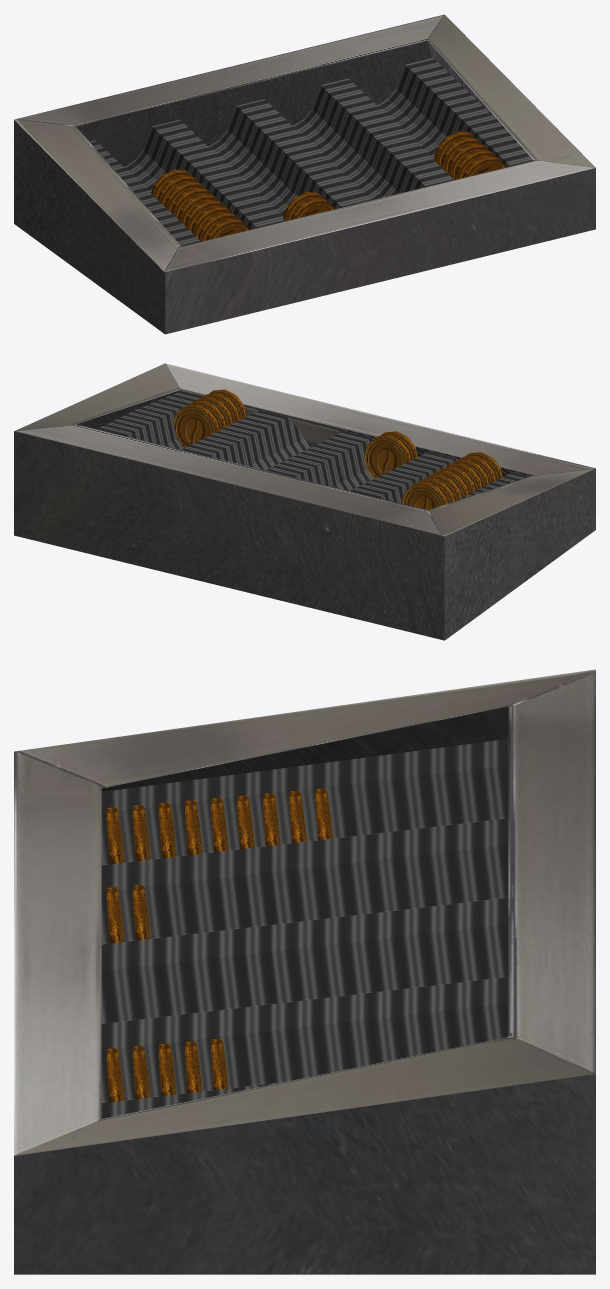
Rendered from coinbox.fbx.
3 views of the same model, one above another, from view 1: azimuth 30°, elevation 25°; view 2: azimuth 150°, elevation 25°; view 3: azimuth 270°, elevation 25° (orthographic). The views are drawn at different scales.
Visible parts, largest first — view 1: Coinbox; view 2: Coinbox; view 3: Coinbox.
Part boxes in pixels (bbox=[...]): Coinbox: bbox=[14, 14, 595, 334]; Coinbox: bbox=[14, 363, 595, 640]; Coinbox: bbox=[14, 669, 595, 1274].
Bounding box in the file's own units: 98.35 × 22.74 × 59.8.
